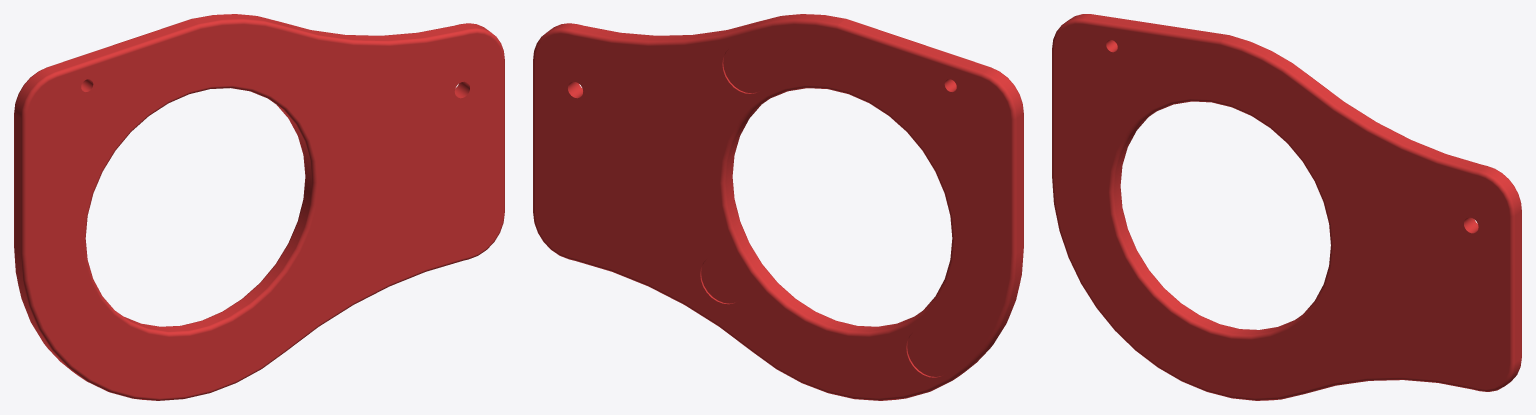
3 views of the same model, side by side, from view 1: azimuth 30°, elevation 25°; view 2: azimuth 150°, elevation 25°; view 3: azimuth 330°, elevation 25° (orthographic). The views are drawn at different scales.
Parts seen in each view (by area): view 1: 60225001-SLDPRT_1; view 2: 60225001-SLDPRT_1; view 3: 60225001-SLDPRT_1.
Boxes of the visible parts, box(x1,y1,x2,y2) form: 60225001-SLDPRT_1: box(14, 14, 504, 400); 60225001-SLDPRT_1: box(533, 14, 1023, 400); 60225001-SLDPRT_1: box(1052, 14, 1521, 400).
Bounding box in the file's own units: 0.1319 × 0.0969 × 0.005.
